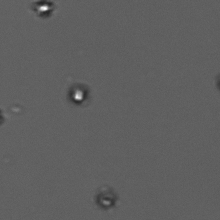Dead Cell: (95, 187, 119, 207)
Living Cell: (34, 1, 55, 16), (69, 88, 85, 102)
